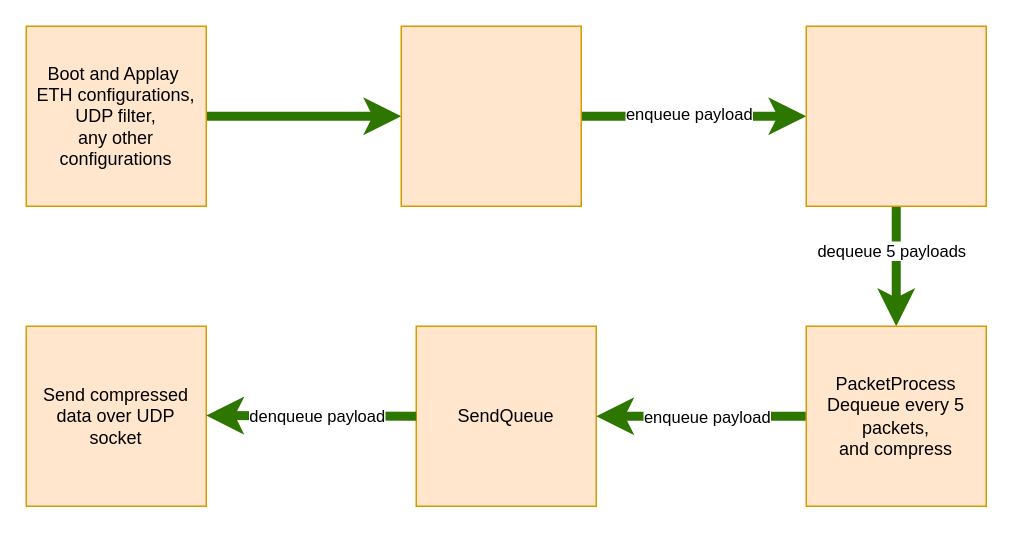
This 1013x533 diagram has some shape labels left out. Here are the shapes that lost their labels. From the top down, the centre of each, then its label:
At pixel 490 115: "Start capturing ETH packets on desired device with the right filter".
At pixel 895 115: "ReciveQueue".
